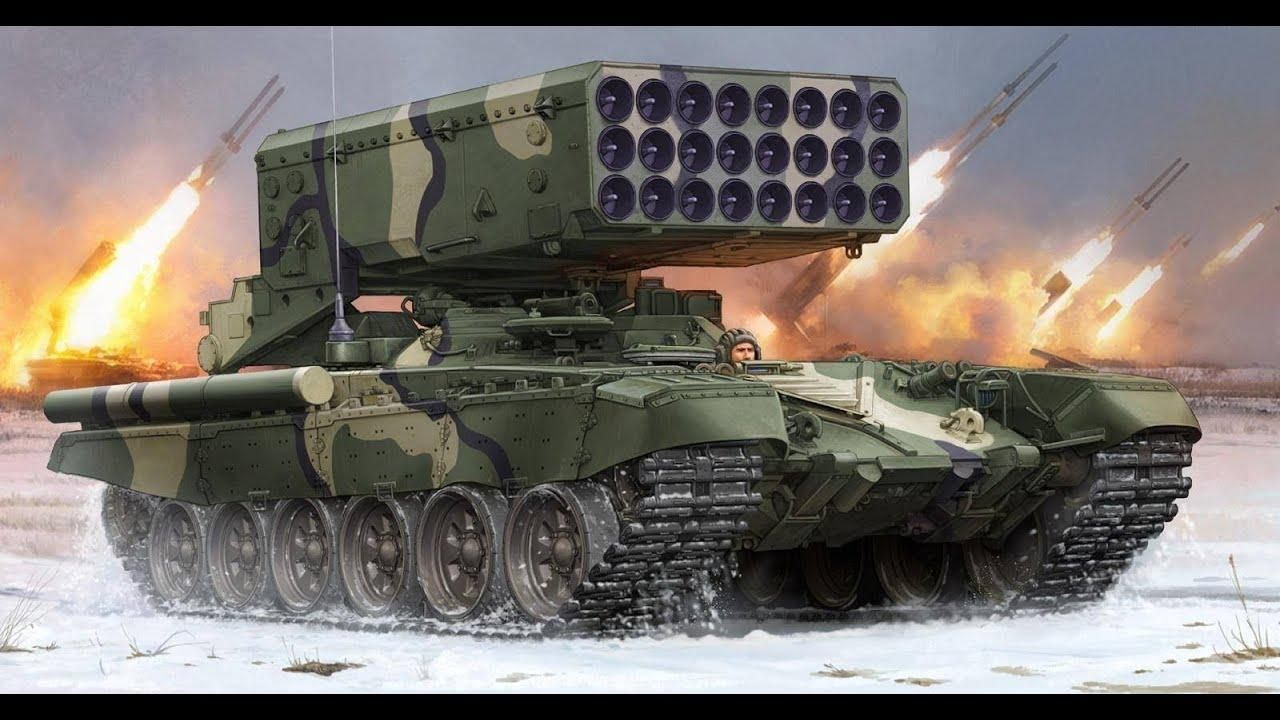rszo: (38, 54, 1206, 639)
sau: (0, 219, 193, 384)
